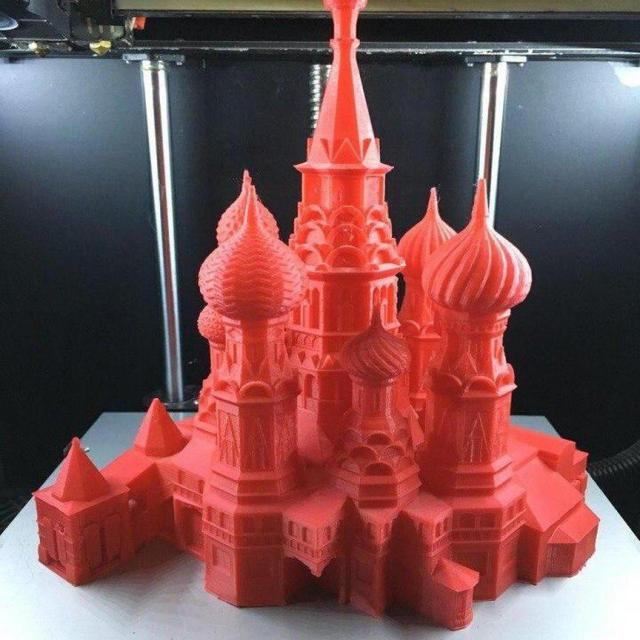Without deffect: (29, 0, 612, 628)
